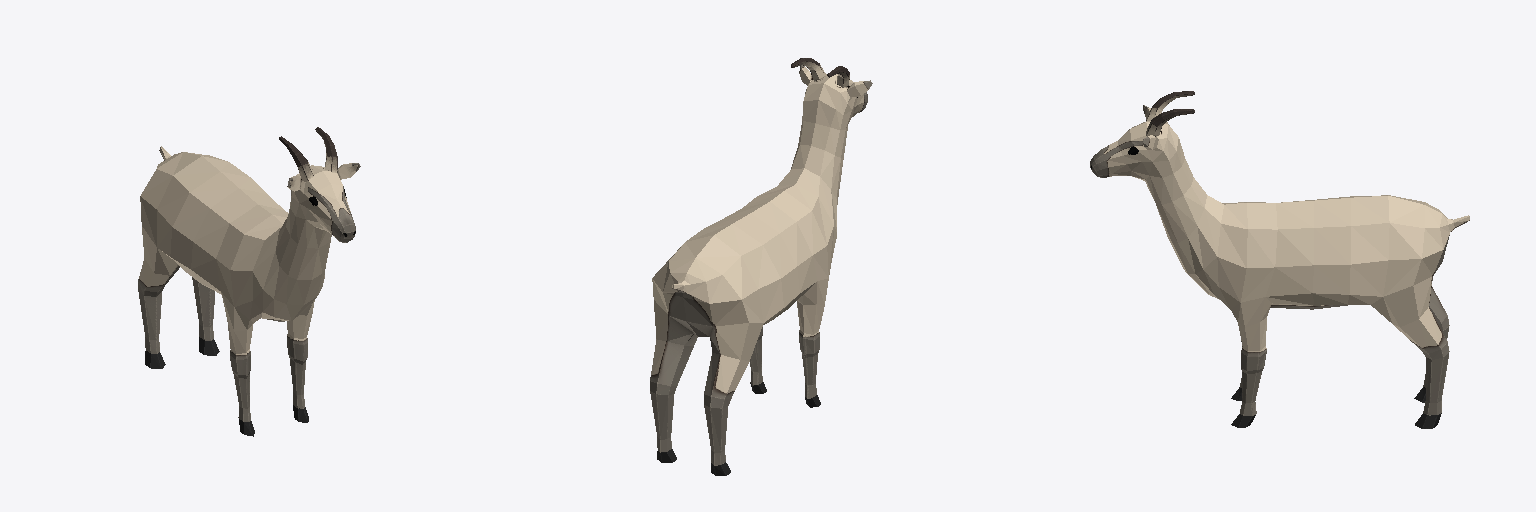
The picture shows the model from 3 angles: view 1: azimuth 30°, elevation 25°; view 2: azimuth 150°, elevation 25°; view 3: azimuth 270°, elevation 25°; orthographic projection.
Visible parts, largest first — view 1: Goat_mesh; view 2: Goat_mesh; view 3: Goat_mesh.
Part boxes in pixels (bbox=[...]): Goat_mesh: bbox=[138, 127, 360, 436]; Goat_mesh: bbox=[650, 58, 872, 475]; Goat_mesh: bbox=[1090, 91, 1469, 428].
Bounding box in the file's own units: 2.26 × 6.6 × 7.31.
Materials: 1 (1 with a texture image).